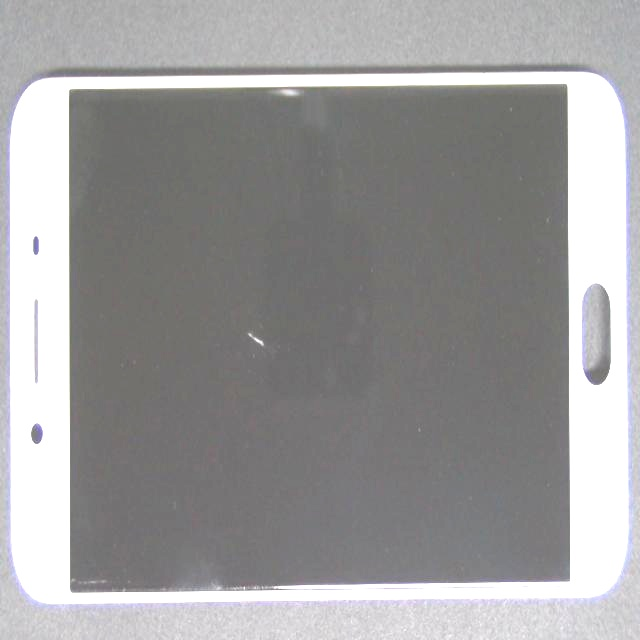scratch: (144, 161, 389, 483)
